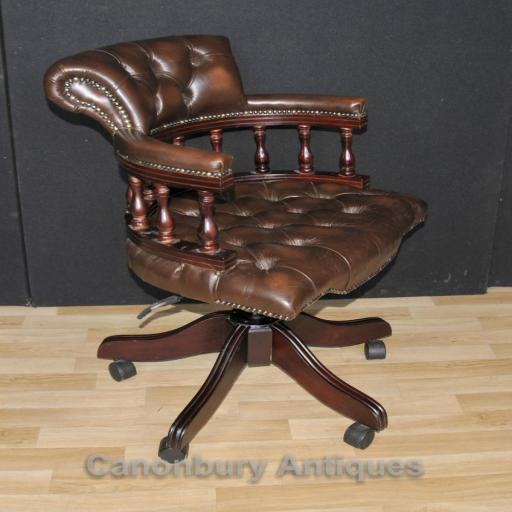chair: (42, 33, 429, 462)
wall: (2, 0, 512, 309)
